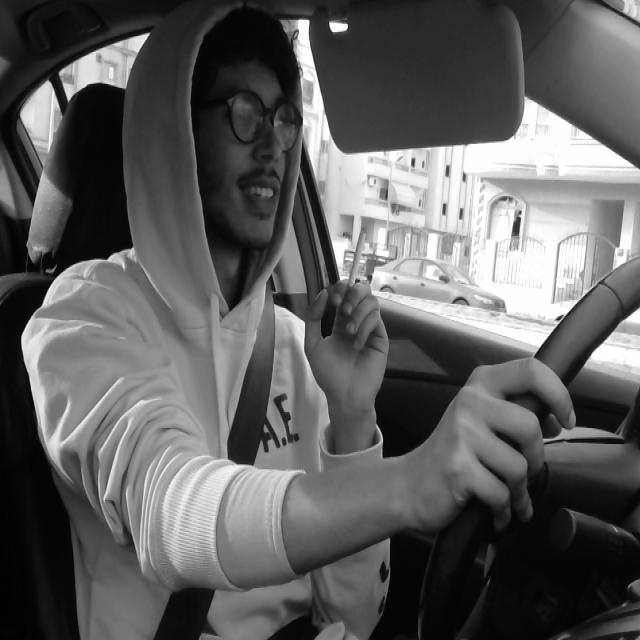smoking: (340, 227, 370, 316)
